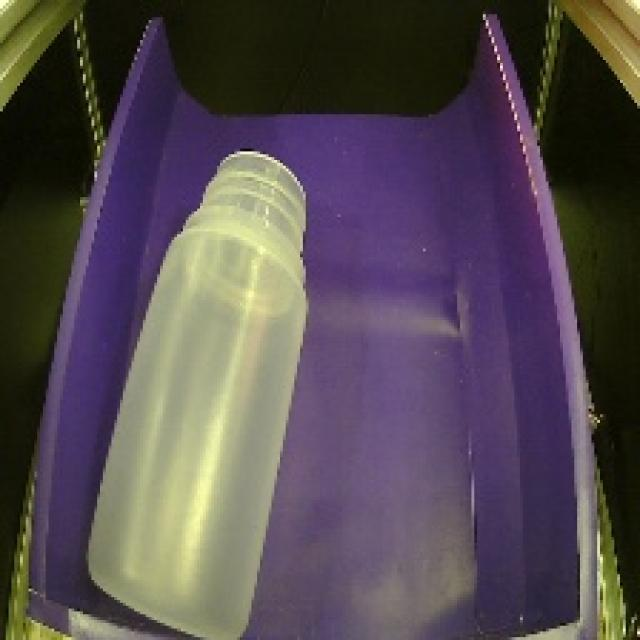plastic: (70, 141, 330, 640)
